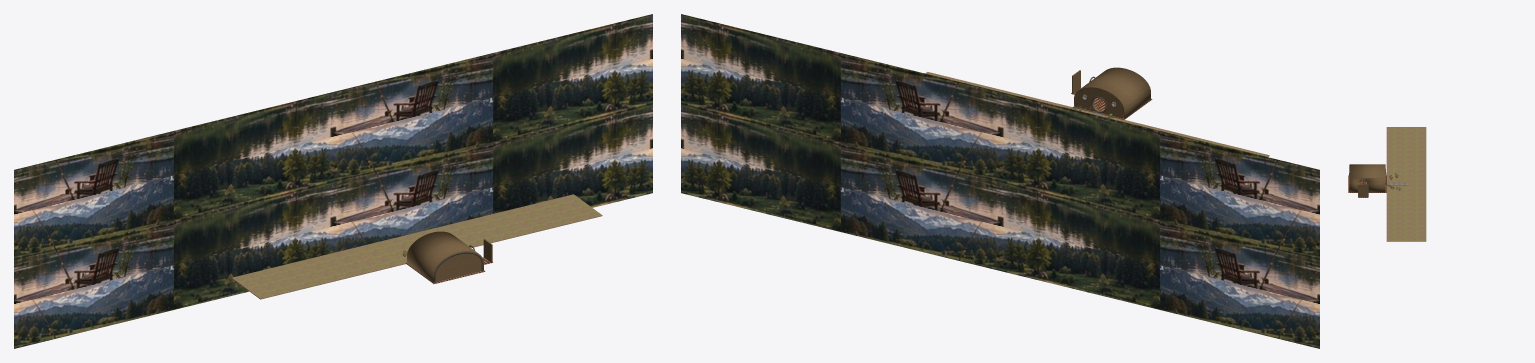
Rendered from hall.glb.
3 renders of one model, left to right at view 1: azimuth 30°, elevation 25°; view 2: azimuth 150°, elevation 25°; view 3: azimuth 270°, elevation 25°, orthographic. The views are drawn at different scales.
Parts seen in each view (by area): view 1: lake view, lawn, vault, back; view 2: lake view, vault, lawn, front; view 3: lawn, vault, corridor wall.
Boxes of the visible parts, left/top/right/bottom form: lake view: left=14, top=14, right=652, bottom=348; lawn: left=231, top=194, right=602, bottom=299; vault: left=407, top=231, right=483, bottom=282; back: left=436, top=253, right=481, bottom=281; lake view: left=681, top=14, right=1319, bottom=348; vault: left=1074, top=67, right=1150, bottom=118; lawn: left=925, top=72, right=1269, bottom=156; front: left=1075, top=88, right=1123, bottom=118; lawn: left=1386, top=127, right=1426, bottom=241; vault: left=1349, top=164, right=1385, bottom=192; corridor wall: left=1358, top=184, right=1368, bottom=197.
Size of the model in its own units: 112 by 30 by 38.3.
25 materials, 17 textured.
